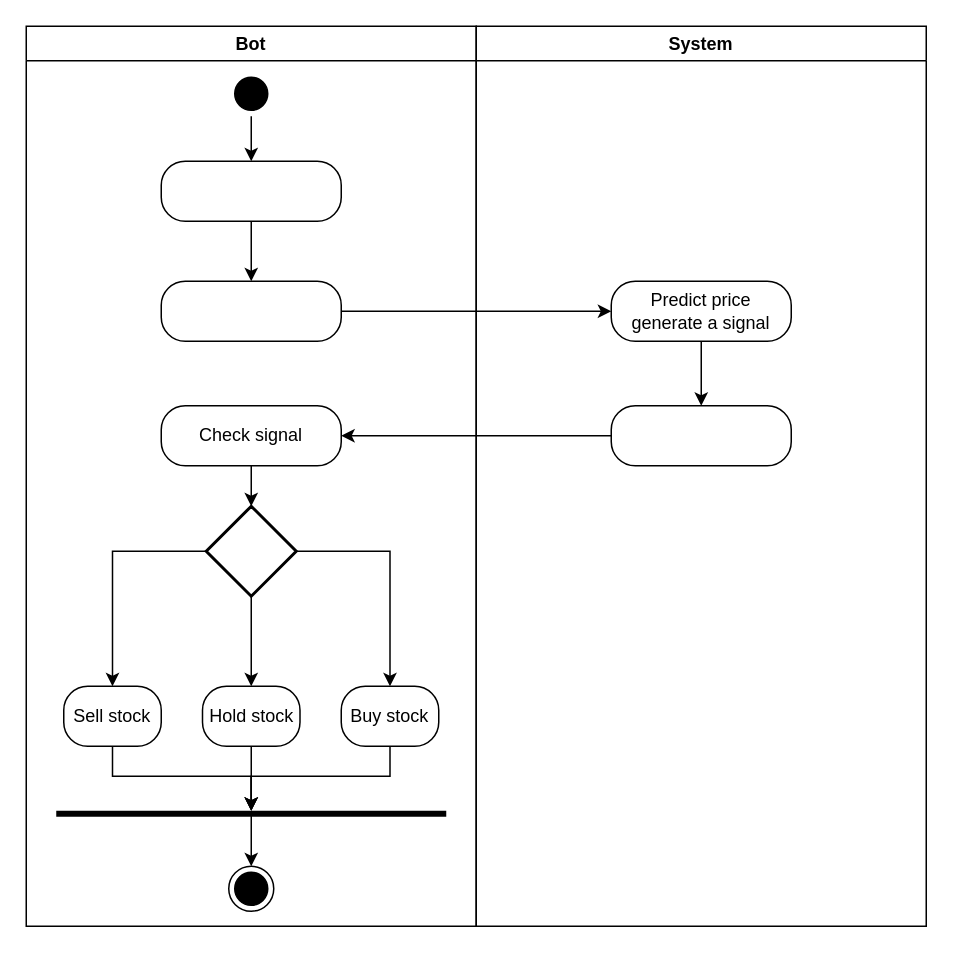
The diagram is 953 pixels wide and 953 high, and some of its shapes have lost their labels. The shapes that lost their labels are listed below. From the top down, each one's centre as x and y in pixels, then its label:
(x=250, y=190): Request price prediction
(x=250, y=310): Fill stock details
(x=700, y=435): Send results
(x=250, y=550): Signal?
